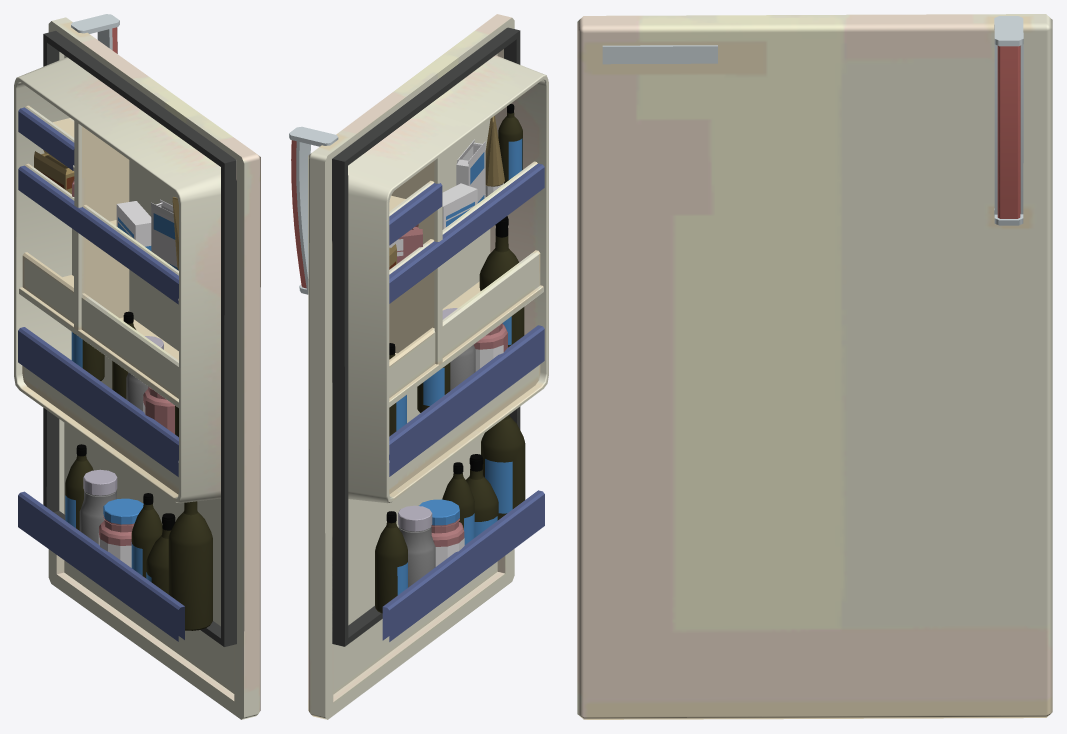
The model's file is DoorPivot #9818.fbx.
3 views of the same model, side by side, from view 1: azimuth 30°, elevation 25°; view 2: azimuth 150°, elevation 25°; view 3: azimuth 270°, elevation 25° (orthographic). The views are drawn at different scales.
Parts seen in each view (by area): view 1: fridge_a_door, DoorGlass, Obj_WineBottle001, obj_fridge_door_a_interior, BottleFat004, BottleFat005, Obj_WineBottle003, Obj_WineBottle004, Obj_WineBottle002, BoxWite001, Obj_WineBottle008, BottleFat006 (+2 smaller); view 2: fridge_a_door, DoorGlass, Obj_WineBottle001, Obj_WineBottle004, BottleFat005, obj_fridge_door_a_interior, Obj_WineBottle005, BottleFat004, Obj_WineBottle002, Obj_WineBottle006, Obj_WineBottle003, BoxWite001 (+5 smaller); view 3: fridge_a_door.
Part boxes in pixels (x1=…): fridge_a_door: x1=14, y1=14, x2=260, y2=719; DoorGlass: x1=18, y1=107, x2=184, y2=641; Obj_WineBottle001: x1=168, y1=501, x2=212, y2=630; obj_fridge_door_a_interior: x1=34, y1=150, x2=178, y2=270; BottleFat004: x1=98, y1=498, x2=143, y2=567; BottleFat005: x1=79, y1=469, x2=117, y2=544; Obj_WineBottle003: x1=131, y1=493, x2=162, y2=578; Obj_WineBottle004: x1=65, y1=444, x2=93, y2=530; Obj_WineBottle002: x1=146, y1=513, x2=175, y2=594; BoxWite001: x1=116, y1=201, x2=151, y2=250; Obj_WineBottle008: x1=71, y1=332, x2=104, y2=380; BottleFat006: x1=143, y1=386, x2=174, y2=433; fridge_a_door: x1=289, y1=14, x2=548, y2=719; DoorGlass: x1=382, y1=163, x2=544, y2=641; Obj_WineBottle001: x1=481, y1=414, x2=525, y2=519; Obj_WineBottle004: x1=375, y1=511, x2=407, y2=613; BottleFat005: x1=398, y1=505, x2=435, y2=587; obj_fridge_door_a_interior: x1=389, y1=139, x2=485, y2=269; Obj_WineBottle005: x1=479, y1=216, x2=524, y2=347; BottleFat004: x1=419, y1=499, x2=464, y2=566; Obj_WineBottle002: x1=466, y1=454, x2=498, y2=537; Obj_WineBottle006: x1=498, y1=104, x2=522, y2=183; Obj_WineBottle003: x1=442, y1=462, x2=474, y2=544; BoxWite001: x1=442, y1=183, x2=477, y2=229; fridge_a_door: x1=577, y1=14, x2=1052, y2=719.
Bounding box in the file's own units: 0.2191 × 1.2 × 0.7425.
Materials: 3 (2 with a texture image).
